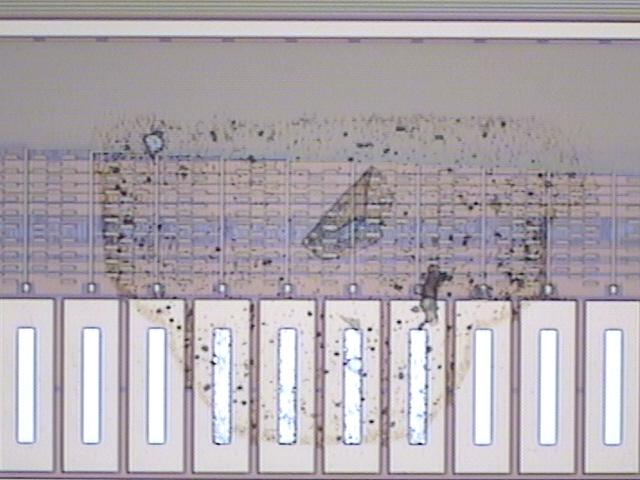PO CONTAMINATION: (89, 104, 603, 452)
